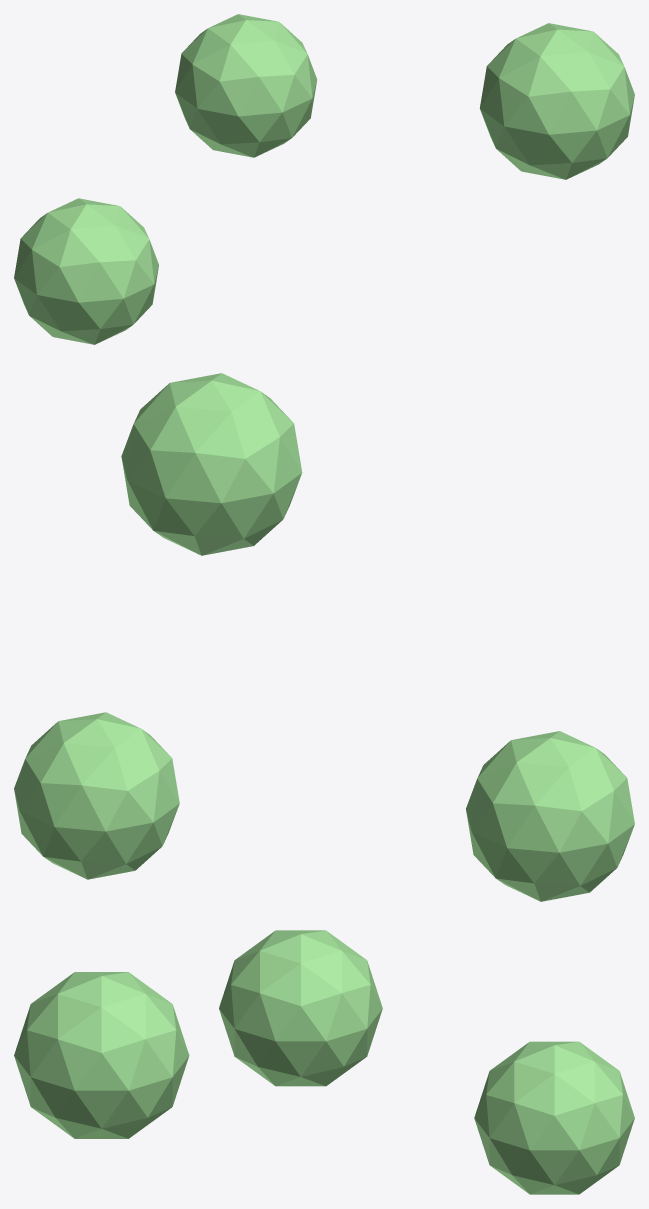
Rendered from flowerBud.fbx.
3 views of the same model, one above another, from view 1: azimuth 30°, elevation 25°; view 2: azimuth 150°, elevation 25°; view 3: azimuth 270°, elevation 25° (orthographic). The views are drawn at different scales.
Visible parts, largest first — view 1: Icosphere.002; view 2: Icosphere.002; view 3: Icosphere.002.
Boxes of the visible parts, x1=… form: Icosphere.002: x1=14, y1=14, x2=634, y2=344; Icosphere.002: x1=14, y1=373, x2=634, y2=901; Icosphere.002: x1=14, y1=930, x2=634, y2=1194.
Size of the model in its own units: 0.5476 by 0.2913 by 0.5255.
